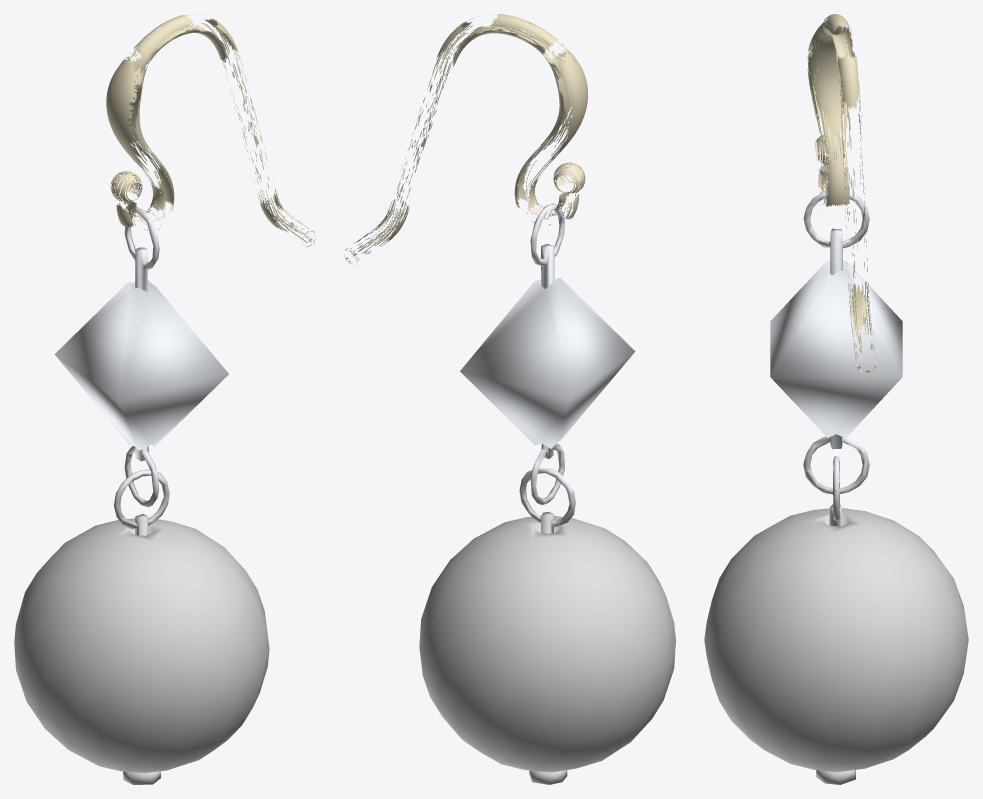
The model's file is drop.glb.
3 renders of one model, left to right at view 1: azimuth 30°, elevation 25°; view 2: azimuth 150°, elevation 25°; view 3: azimuth 270°, elevation 25°, orthographic. The views are drawn at different scales.
Parts seen in each view (by area): view 1: EARRING2_Material.002_0, Hook for earring_Material.001_0, Hook for earring_Material.001_0.001; view 2: EARRING2_Material.002_0, Hook for earring_Material.001_0, Hook for earring_Material.001_0.001; view 3: EARRING2_Material.002_0, Hook for earring_Material.001_0, Hook for earring_Material.001_0.001.
Boxes of the visible parts, x1,y1,x2,y2 form: EARRING2_Material.002_0: [14, 207, 269, 784]; Hook for earring_Material.001_0: [107, 14, 315, 247]; Hook for earring_Material.001_0.001: [106, 91, 174, 230]; EARRING2_Material.002_0: [419, 203, 675, 784]; Hook for earring_Material.001_0: [344, 14, 586, 264]; Hook for earring_Material.001_0.001: [514, 81, 587, 225]; EARRING2_Material.002_0: [704, 191, 968, 784]; Hook for earring_Material.001_0: [808, 14, 876, 372]; Hook for earring_Material.001_0.001: [807, 46, 849, 212].
Size of the model in its own units: 0.4158 by 1 by 0.3096.
